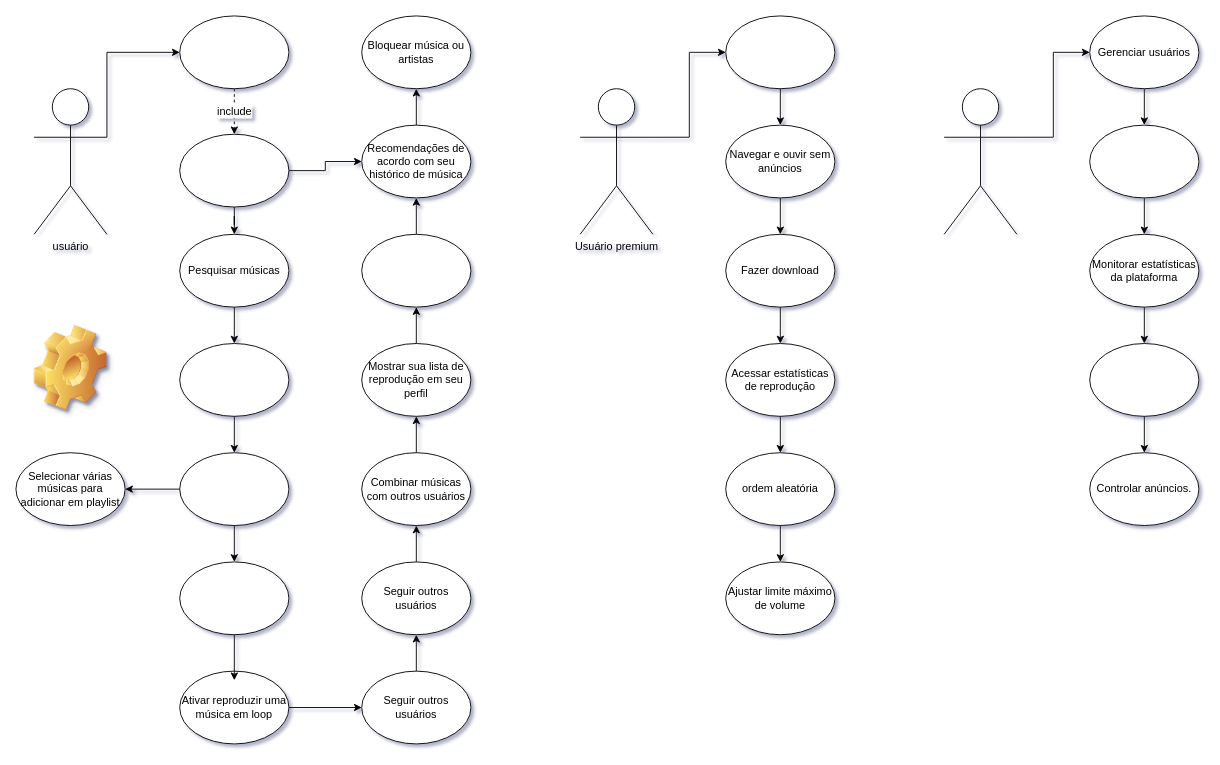
Image size: 1220x765. Some labels were removed from this diagram. The centre of each missing label's shape, as x and y in pixels:
administrador: the point at 980,161
Criar conta: the point at 234,52
Criar playlists: the point at 234,379
Editar playlists: the point at 234,489
Favoritar músicas ou álbuns: the point at 416,270
Fazer login: the point at 234,170
Gerenciar assinaturas ou planos de pagamento: the point at 1144,379
Gerenciar catálogo de músicas: the point at 1144,161
Mesmas funcionalidades do Usuário comum.: the point at 780,52
reproduzir música com anúncio: the point at 234,598
